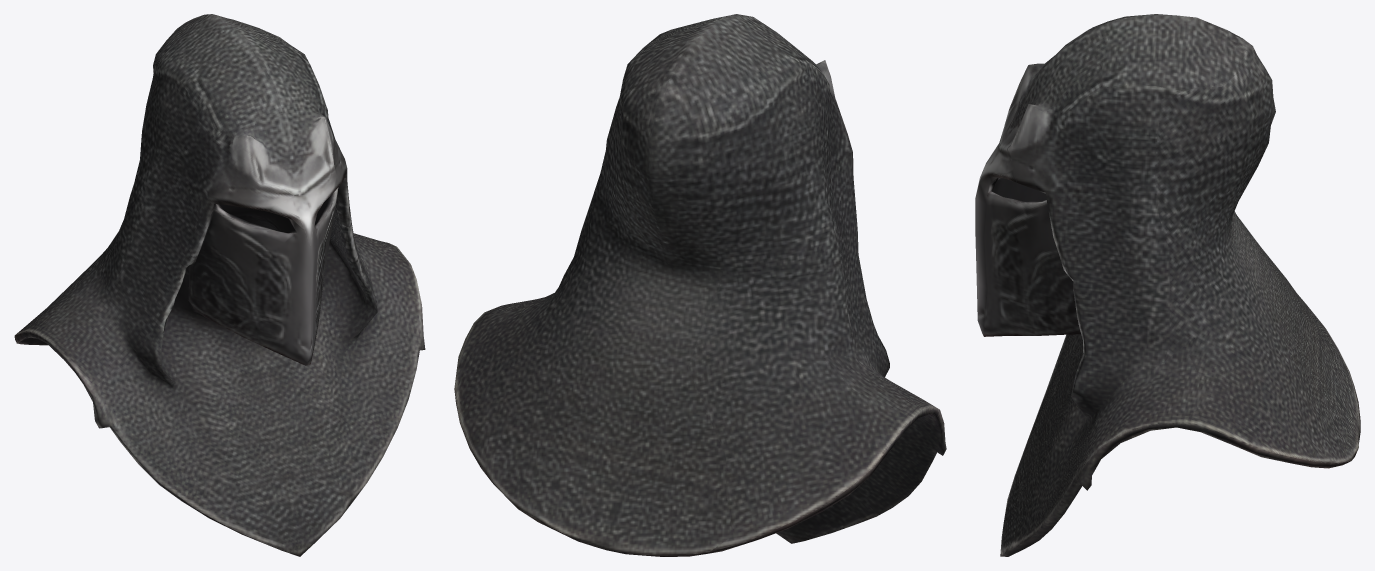
File: coif.glb
The picture shows the model from 3 angles, left to right: view 1: azimuth 30°, elevation 25°; view 2: azimuth 150°, elevation 25°; view 3: azimuth 270°, elevation 25°; orthographic projection. The views are drawn at different scales.
Parts seen in each view (by area): view 1: geometry_0; view 2: geometry_0; view 3: geometry_0.
Boxes of the visible parts, x1,y1,x2,y2 form: geometry_0: (14, 14, 425, 556); geometry_0: (454, 14, 946, 556); geometry_0: (975, 14, 1360, 556).
Size of the model in its own units: 0.7794 by 0.9997 by 0.6453.
Materials: 1 (1 with a texture image).
